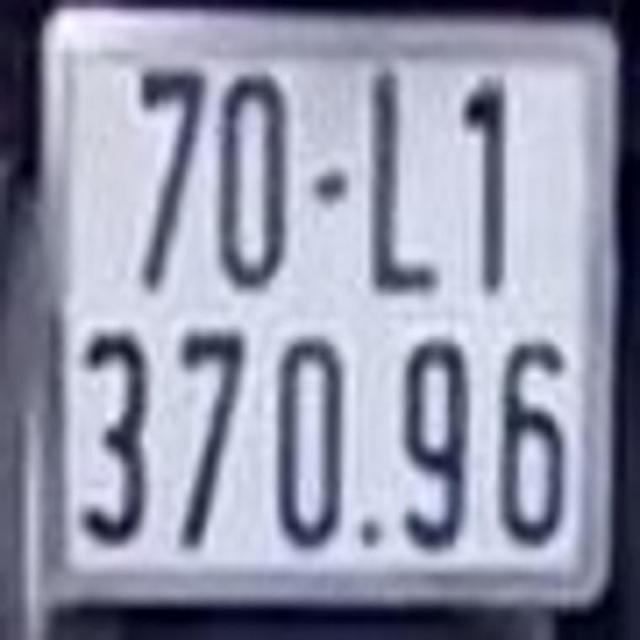0: (276, 329, 347, 546), (218, 74, 288, 290)
1: (461, 73, 512, 297)
3: (78, 327, 148, 540)
6: (504, 339, 567, 546)
7: (134, 71, 200, 282), (184, 322, 244, 544)
9: (403, 341, 471, 548)
L: (362, 70, 443, 292)
